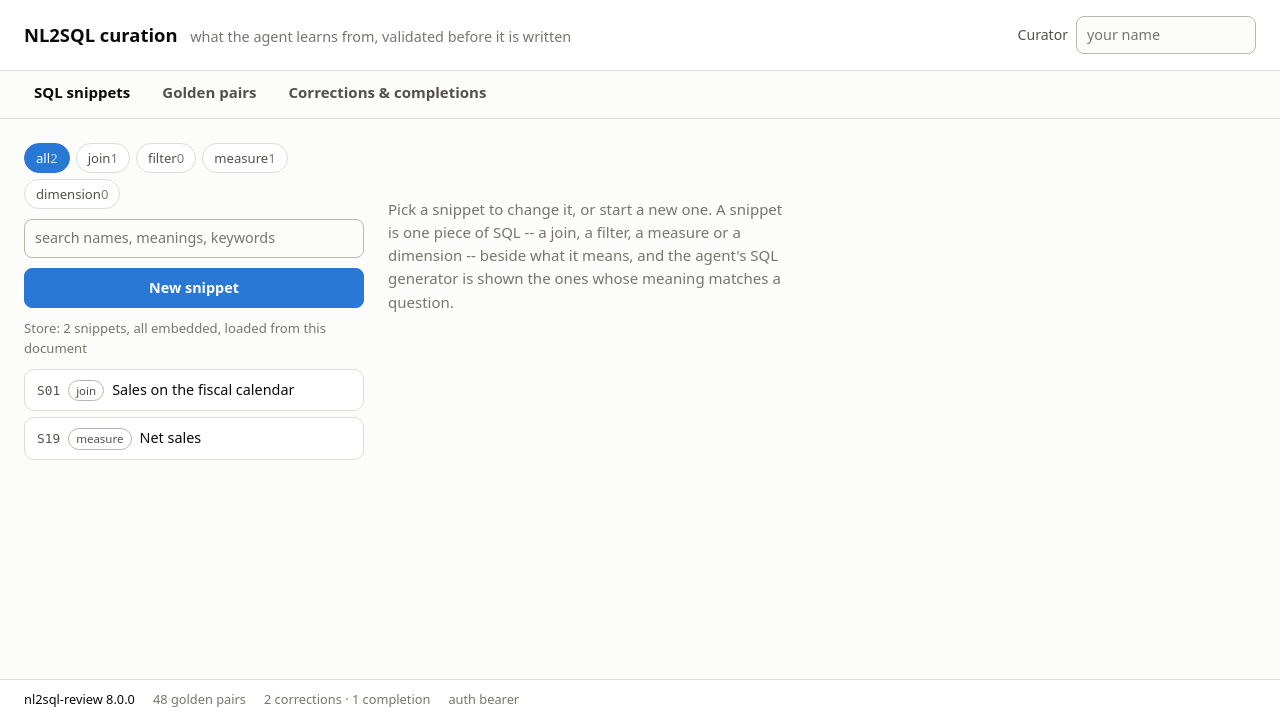
the tabs › opens on the snippets and moves between the three
The image size is (1280, 720).
expect the panel named "SQL snippets" is shown: met, box [24,142,782,460]
Click the tab "Golden pairs": (209, 94) [148,71,270,118]
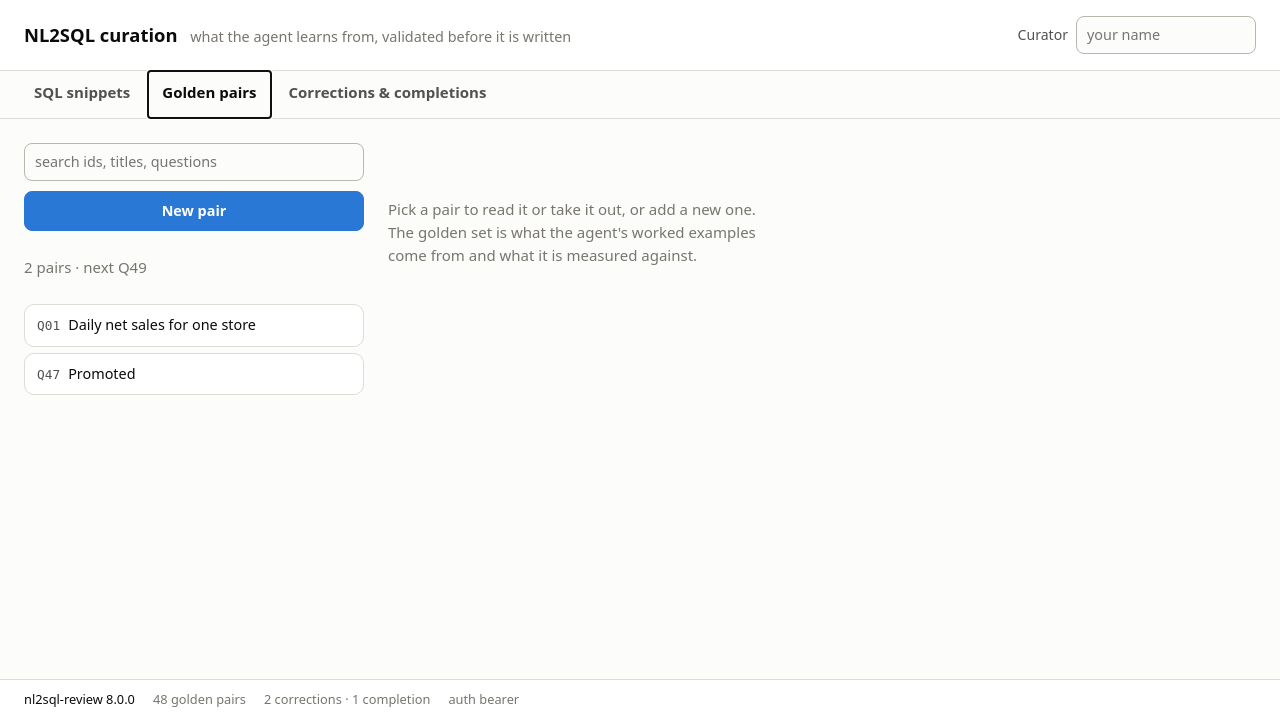
expect the text "Daily net sales for one store" is shown: met, box [68,314,256,337]
Click the tab "Corrections & completions": (387, 94) [274,71,500,118]
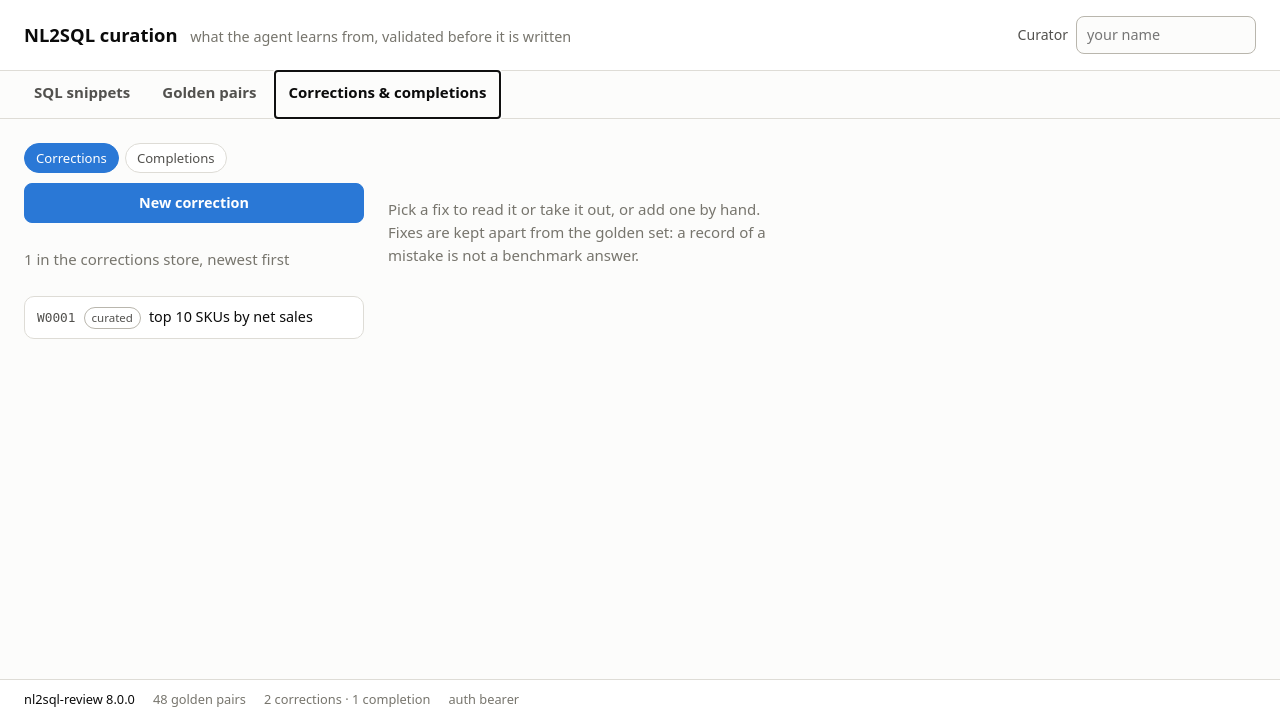
expect the text "top 10 SKUs by net sales" is shown: met, box [149,308,313,326]
